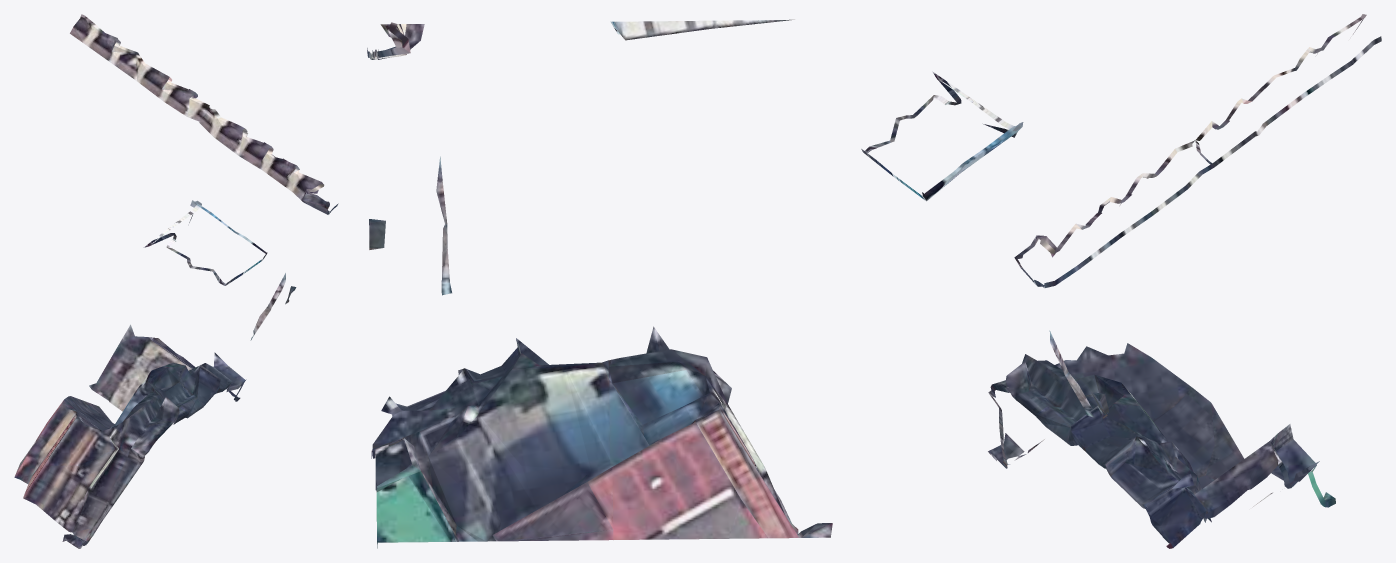
The picture shows the model from 3 angles, left to right: view 1: azimuth 30°, elevation 25°; view 2: azimuth 150°, elevation 25°; view 3: azimuth 270°, elevation 25°; orthographic projection. The views are drawn at different scales.
Bounding box in the file's own units: 38.94 × 50.17 × 43.87.
Materials: 1 (1 with a texture image).
